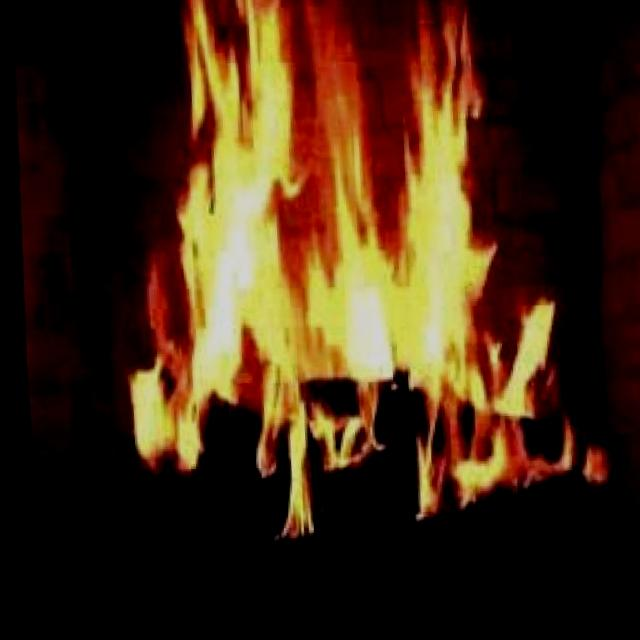Fire: (84, 0, 627, 569)
